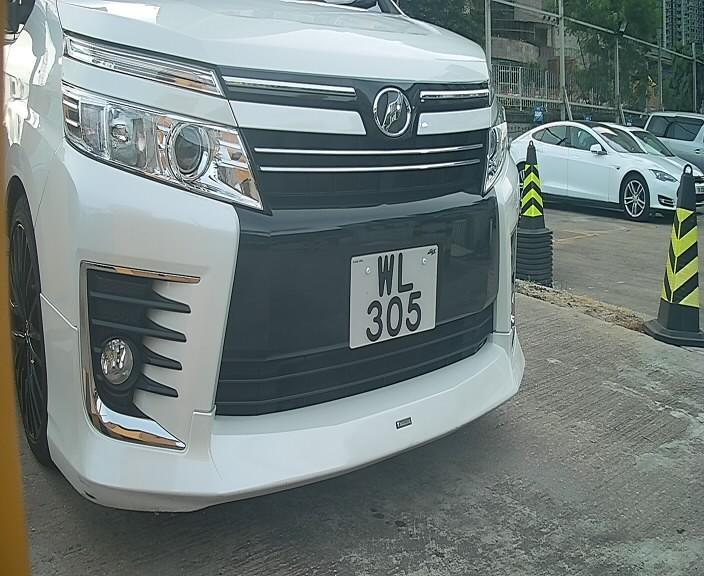License Plate: (343, 235, 444, 353)
